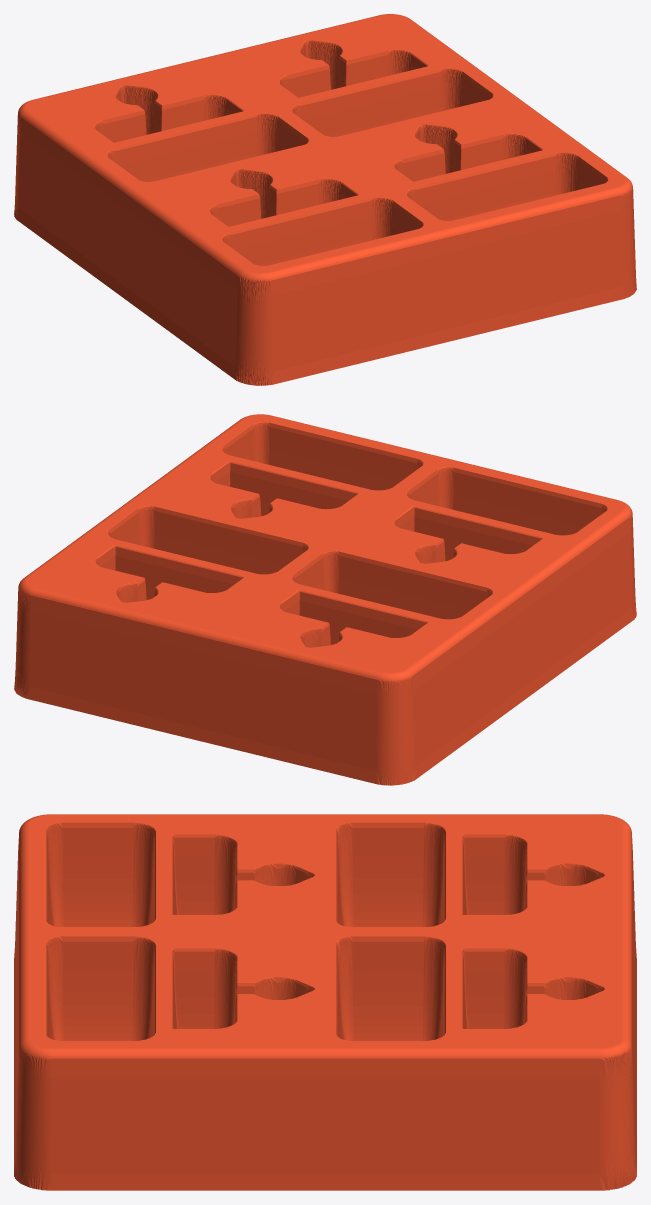
Rendered from mold.glb.
3 views of the same model, one above another, from view 1: azimuth 30°, elevation 25°; view 2: azimuth 150°, elevation 25°; view 3: azimuth 270°, elevation 25° (orthographic). The views are drawn at different scales.
Visible parts, largest first — view 1: geometry_0; view 2: geometry_0; view 3: geometry_0.
Part boxes in pixels (box(x1,y1,x2,y2)): geometry_0: box(14, 14, 636, 385); geometry_0: box(14, 414, 636, 785); geometry_0: box(14, 814, 636, 1190).
Size of the model in its own units: 0.1392 by 0.036 by 0.1493.
